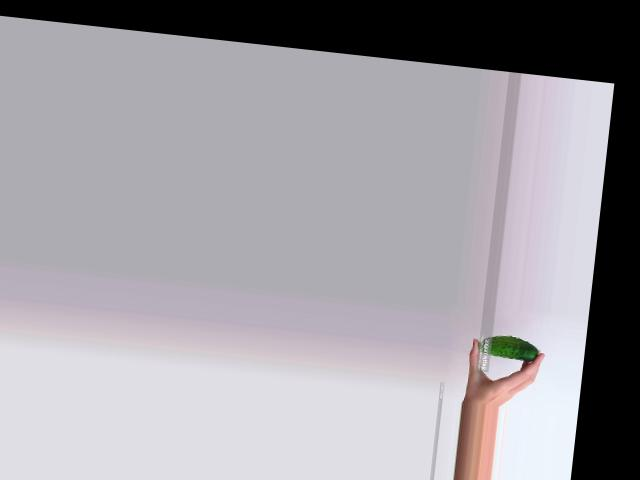cucumber: (477, 332, 539, 361)
